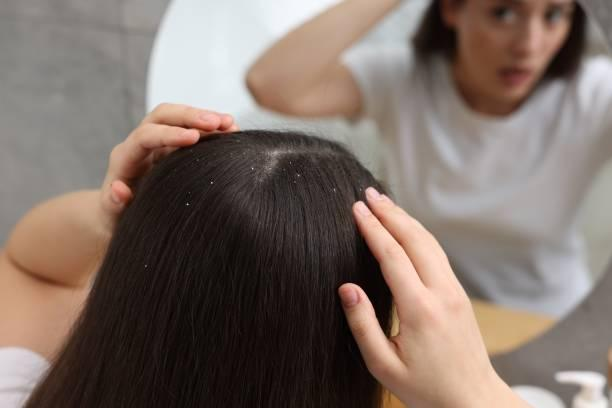dandruff: (179, 199, 196, 215), (292, 168, 307, 184), (203, 175, 219, 189), (325, 181, 341, 195), (192, 155, 204, 165), (141, 262, 148, 270), (248, 165, 255, 171)
